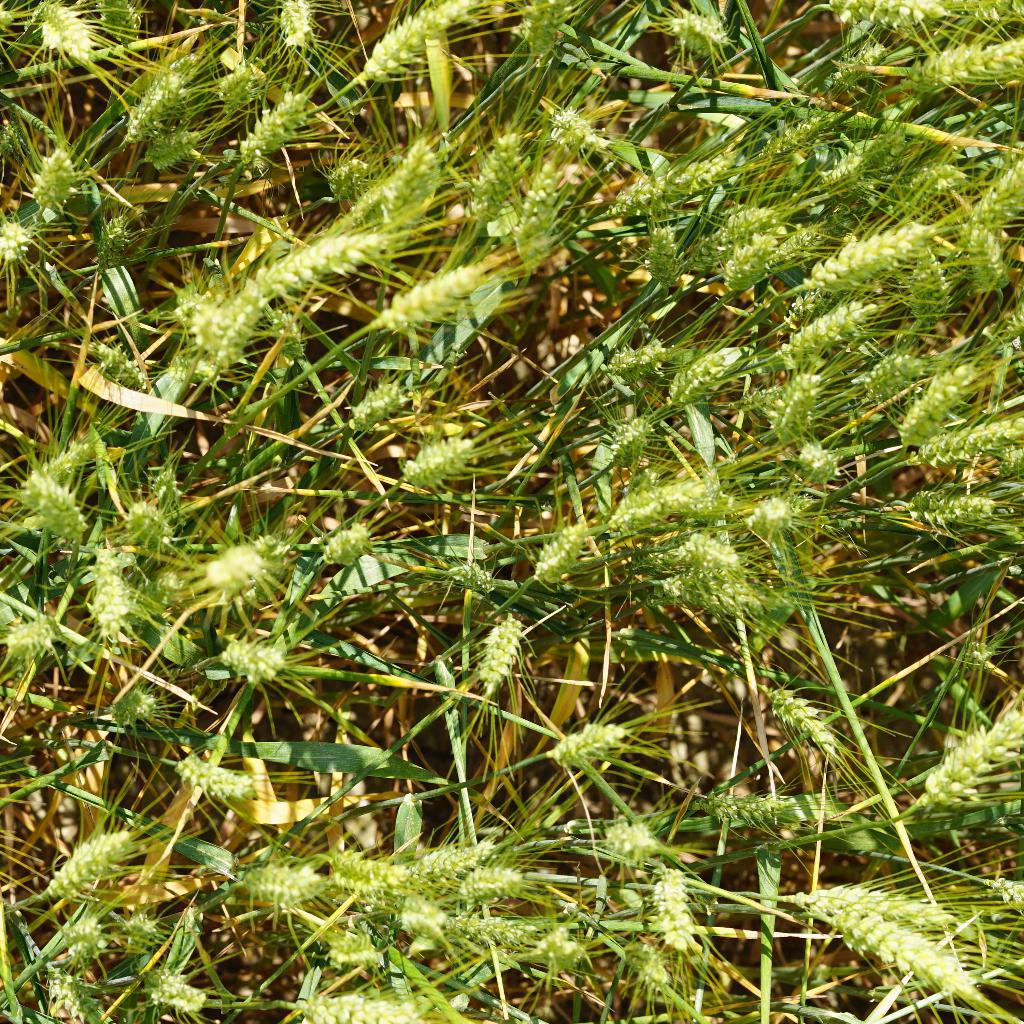0-0: (802, 885, 975, 994), (799, 859, 978, 944), (901, 695, 1020, 818), (339, 0, 466, 104), (881, 397, 1024, 478), (256, 208, 397, 290), (873, 339, 982, 445), (351, 262, 501, 339), (36, 813, 148, 908), (575, 146, 735, 212), (803, 220, 916, 298), (687, 555, 789, 641), (628, 863, 717, 960), (169, 280, 258, 374), (453, 593, 537, 691), (15, 425, 107, 513), (781, 296, 884, 372), (382, 419, 484, 493), (354, 137, 447, 217), (12, 462, 98, 548), (598, 467, 717, 529), (893, 36, 1024, 91), (806, 133, 915, 197), (899, 478, 1015, 537), (215, 843, 314, 912), (509, 154, 563, 280), (397, 828, 497, 896), (522, 503, 600, 589), (679, 197, 777, 265), (675, 320, 746, 413), (286, 976, 423, 1024), (763, 688, 847, 766), (239, 89, 331, 160), (163, 742, 265, 806), (114, 62, 191, 144), (29, 950, 109, 1024), (449, 908, 552, 963), (544, 713, 635, 774), (215, 627, 302, 690), (683, 778, 777, 836), (296, 515, 393, 571), (326, 377, 417, 434), (654, 0, 737, 62), (322, 838, 403, 900), (817, 0, 948, 37), (742, 473, 811, 542), (83, 331, 157, 395), (964, 224, 1021, 306), (859, 340, 929, 406), (29, 0, 101, 64), (97, 900, 169, 963), (507, 0, 579, 63), (142, 959, 212, 1023), (0, 598, 63, 669), (459, 849, 534, 907), (81, 560, 139, 634), (768, 370, 828, 441), (590, 333, 673, 384), (112, 499, 182, 559), (190, 535, 269, 587), (265, 0, 339, 55), (905, 150, 970, 212), (316, 915, 384, 974), (90, 679, 167, 731), (634, 221, 691, 291), (666, 527, 754, 572), (763, 217, 825, 279), (138, 120, 217, 167), (541, 94, 598, 159), (911, 240, 964, 309), (82, 212, 139, 276), (33, 139, 77, 221), (593, 807, 658, 862), (979, 156, 1024, 232), (828, 36, 889, 90), (624, 957, 692, 1005), (256, 303, 307, 366), (209, 62, 269, 115), (597, 411, 658, 462), (60, 914, 109, 976), (396, 903, 449, 960), (321, 152, 374, 208), (721, 231, 774, 287), (163, 280, 222, 330), (79, 0, 148, 41), (157, 351, 228, 388), (0, 198, 36, 266), (148, 461, 188, 512), (546, 929, 591, 970)
